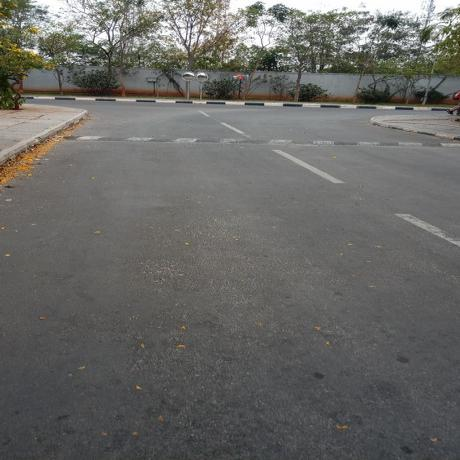Speed Bump: (58, 134, 459, 148)
